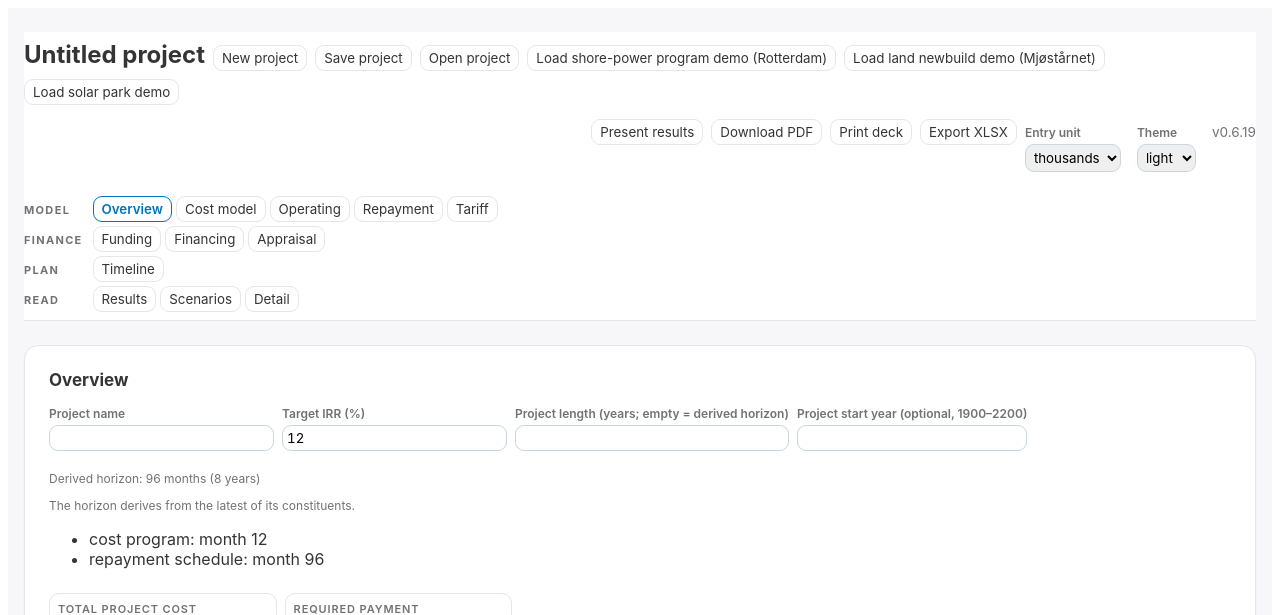
v0.6 chunk 4 — the web surfaces › DEPRECIATION-CONFIG: the cost lines carry the per-line schedule and the project default
The width and height of the screenshot is (1280, 615).
Click the button "Load shore-power program demo (Rotterdam)" at (682, 58), box left=527, top=45, right=836, bottom=71
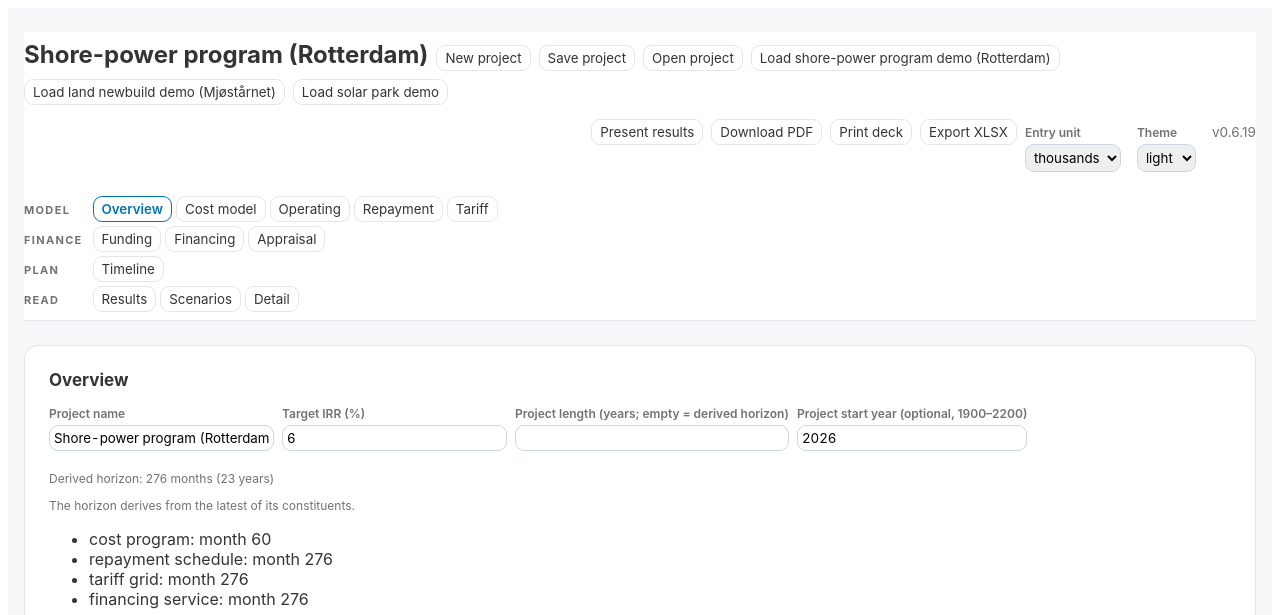
Click the button "Cost model" at (221, 209), box left=176, top=196, right=266, bottom=222
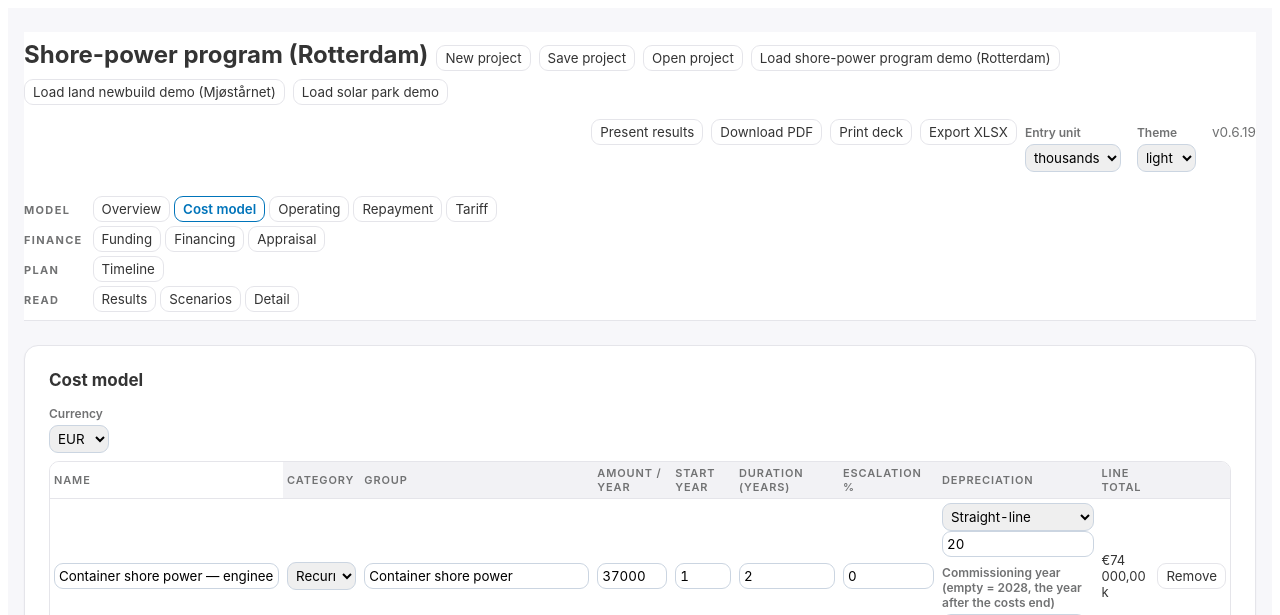
Expected: the 4th dropdown is shown, left=942, top=503, right=1094, bottom=531
